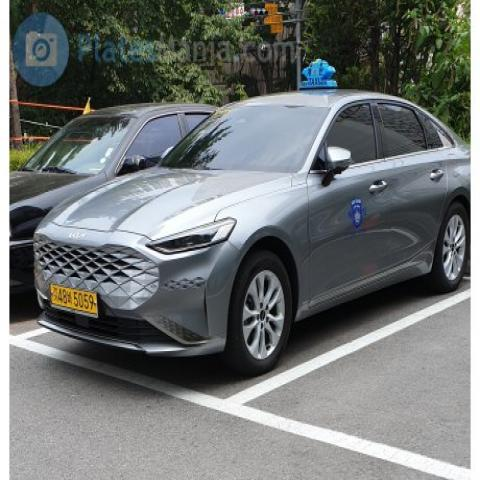LP: (40, 276, 114, 322)
